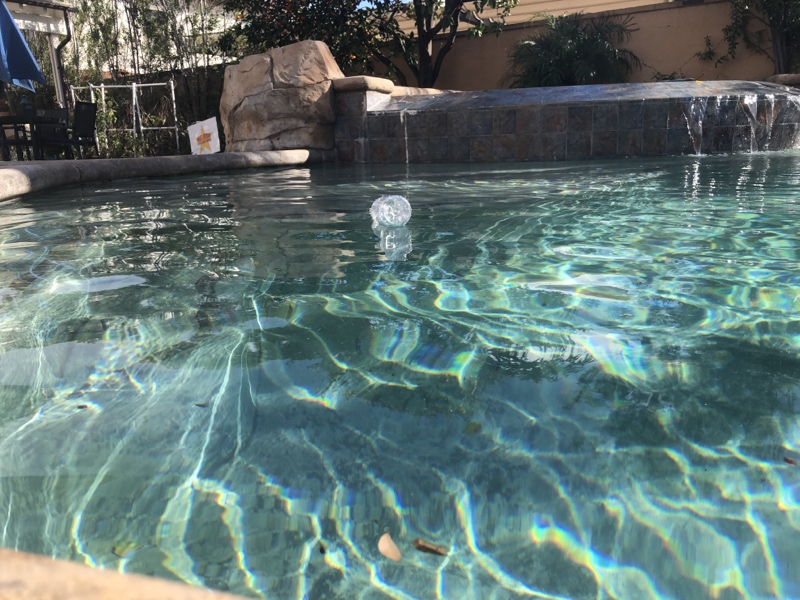Plastic Bottle: (364, 192, 413, 230)
